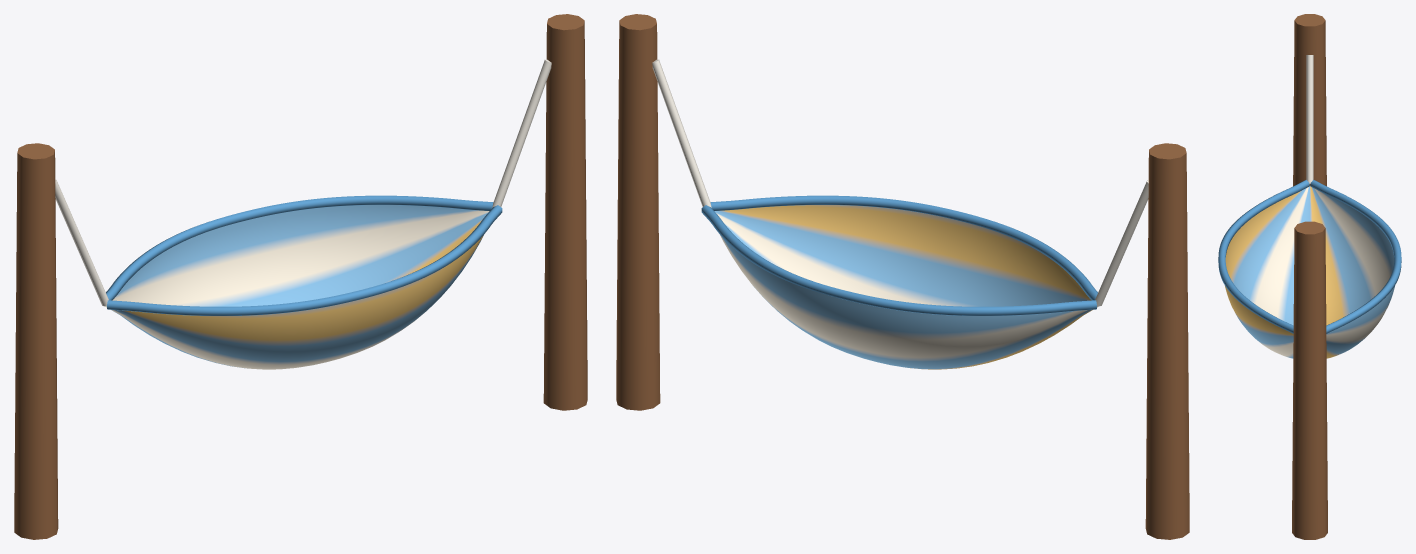
Rendered from hammock.glb.
The picture shows the model from 3 angles, left to right: view 1: azimuth 30°, elevation 25°; view 2: azimuth 150°, elevation 25°; view 3: azimuth 270°, elevation 25°; orthographic projection. The views are drawn at different scales.
Bounding box in the file's own units: 2.03 × 1.3 × 0.7077.
